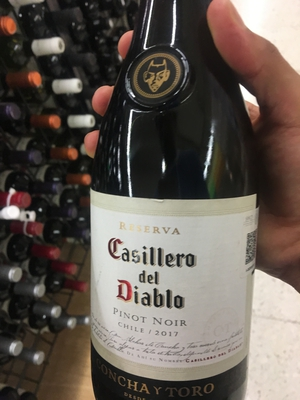casillero del diablo pinot noir: (76, 16, 262, 400)
